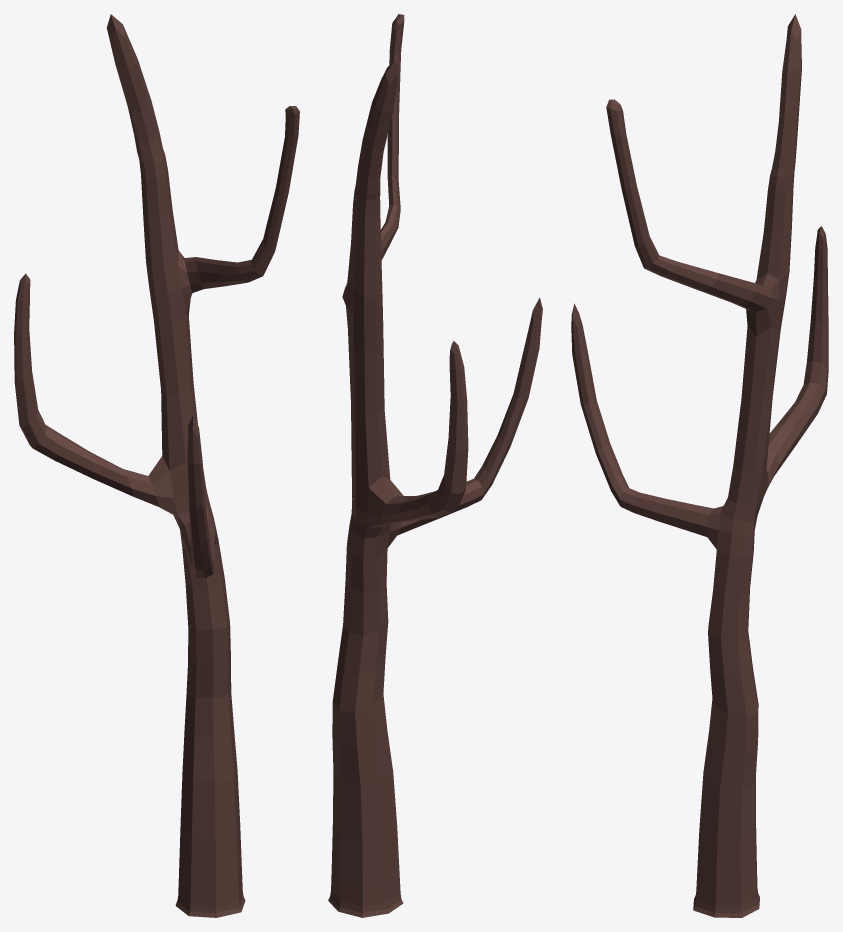
3 renders of one model, left to right at view 1: azimuth 30°, elevation 25°; view 2: azimuth 150°, elevation 25°; view 3: azimuth 270°, elevation 25°, orthographic. The views are drawn at different scales.
Parts seen in each view (by area): view 1: CommonTree_Dead_3; view 2: CommonTree_Dead_3; view 3: CommonTree_Dead_3.
Part boxes in pixels (x1,y1,x2,y2): CommonTree_Dead_3: [14, 14, 299, 917]; CommonTree_Dead_3: [328, 14, 542, 917]; CommonTree_Dead_3: [571, 14, 828, 917].
Bounding box in the file's own units: 0.6352 × 3 × 0.8125.
